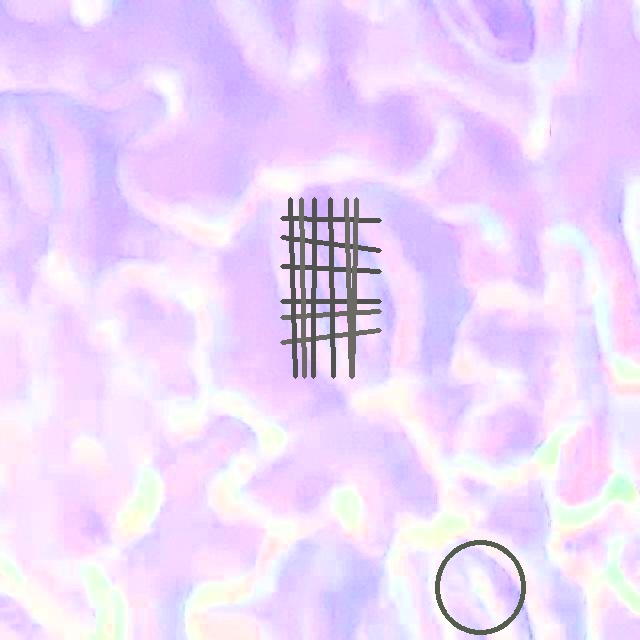open: (280, 197, 381, 378), (433, 538, 526, 636)
